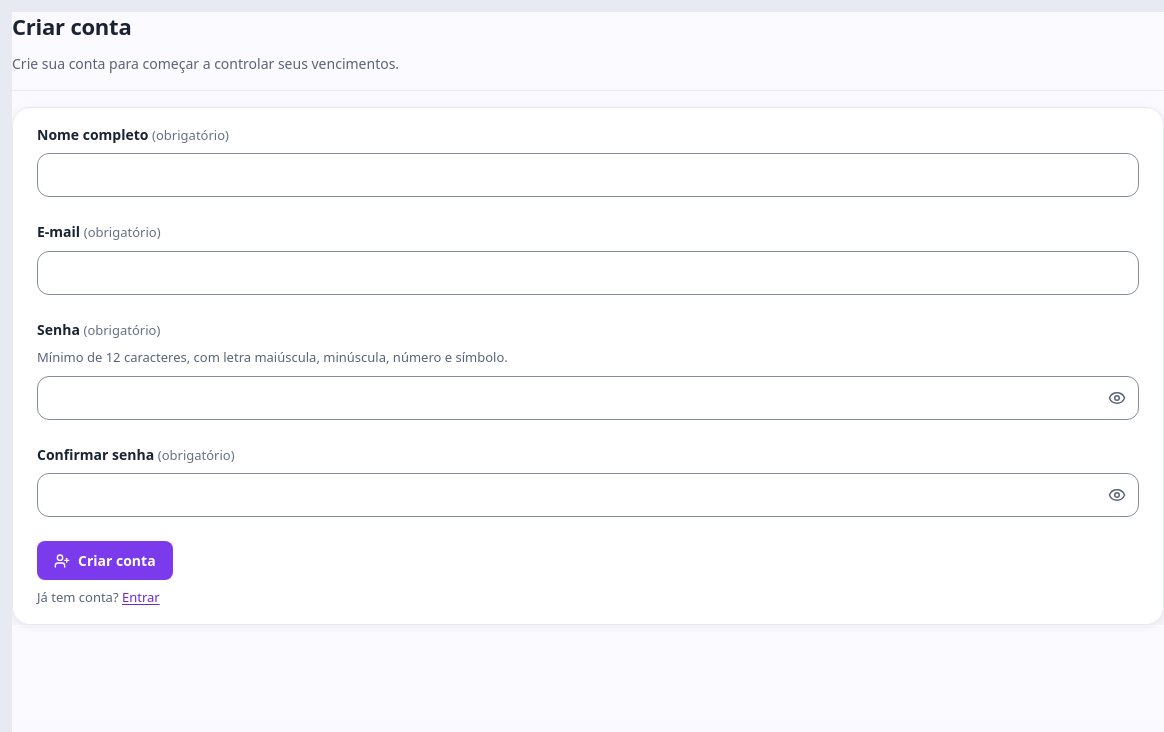
Test: SignUp › shows a specific message when the e-mail is already registered (CONFLICT)
The image size is (1164, 732).
Type "Ana Exemplo" into the field labelled "Nome completo (obrigatório)". click: coordinates (588, 175)
box: [37,153,1139,197]
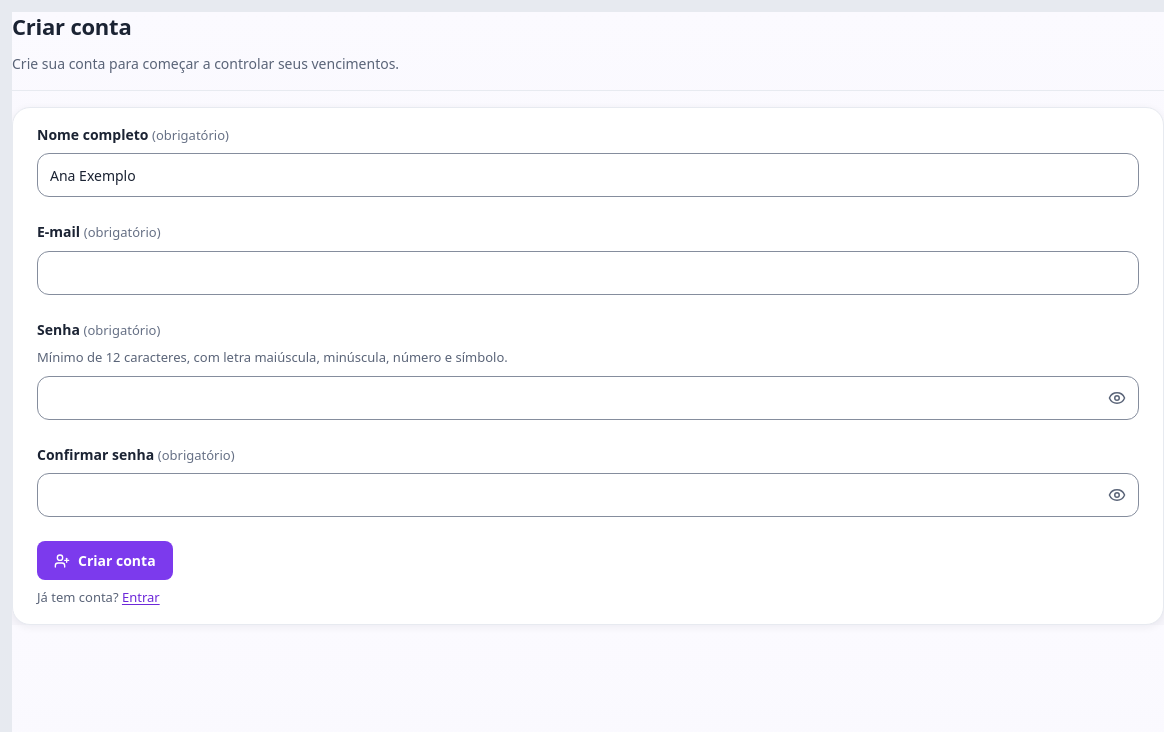
Type "taken@example.com" into the field labelled "E-mail (obrigatório)". click: coordinates (588, 273)
box: [37,251,1139,295]
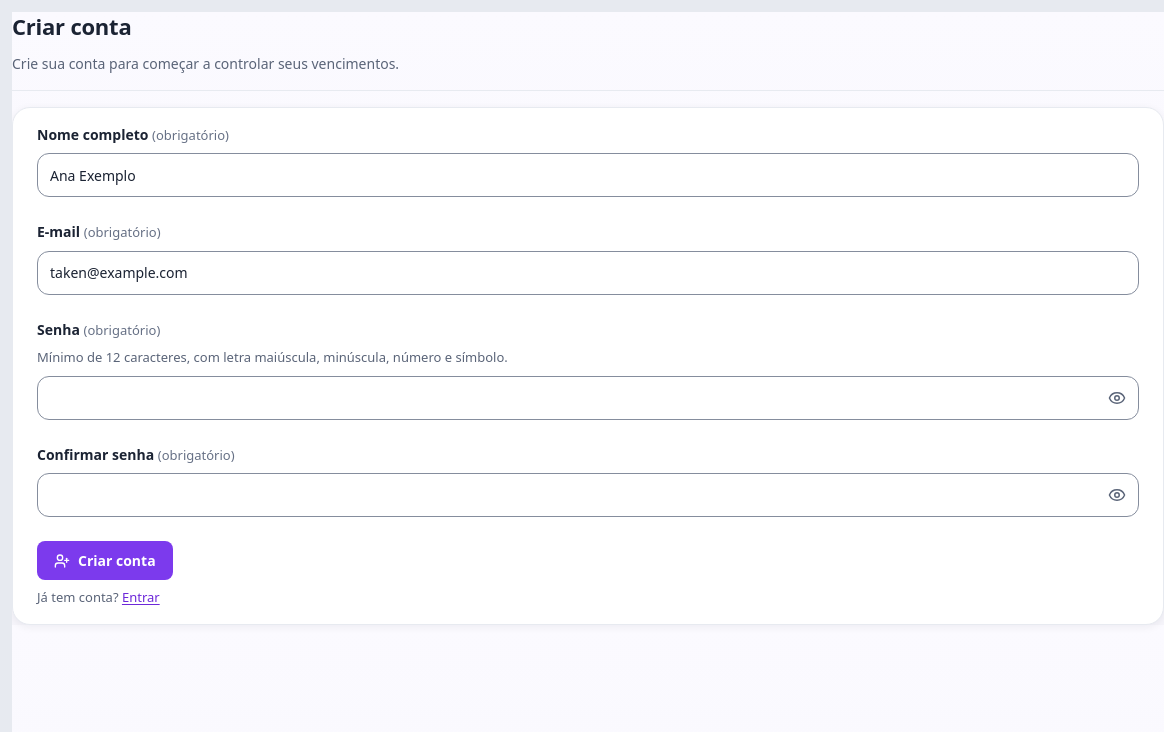
Type "Correct-Horse-1" into the password field labelled "Senha (obrigatório)". click: coordinates (588, 398)
box: [37,376,1139,420]
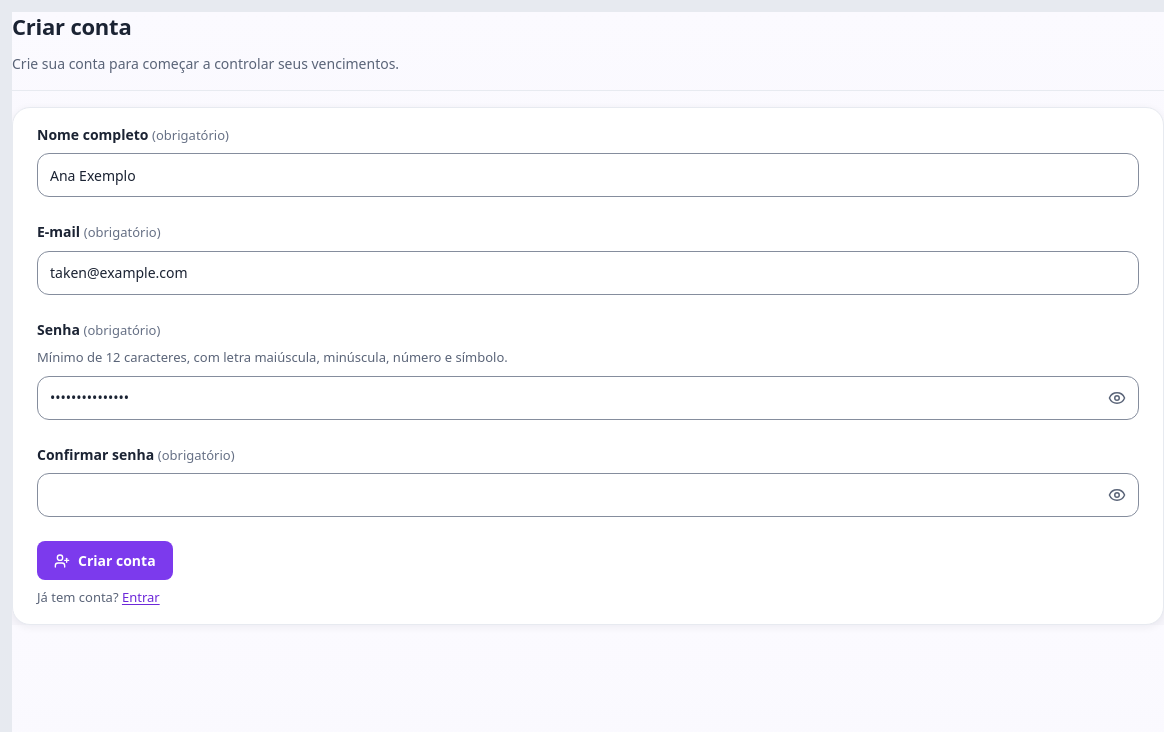
Type "Correct-Horse-1" into the password field labelled "Confirmar senha (obrigatório)". click: coordinates (588, 495)
box: [37,473,1139,517]
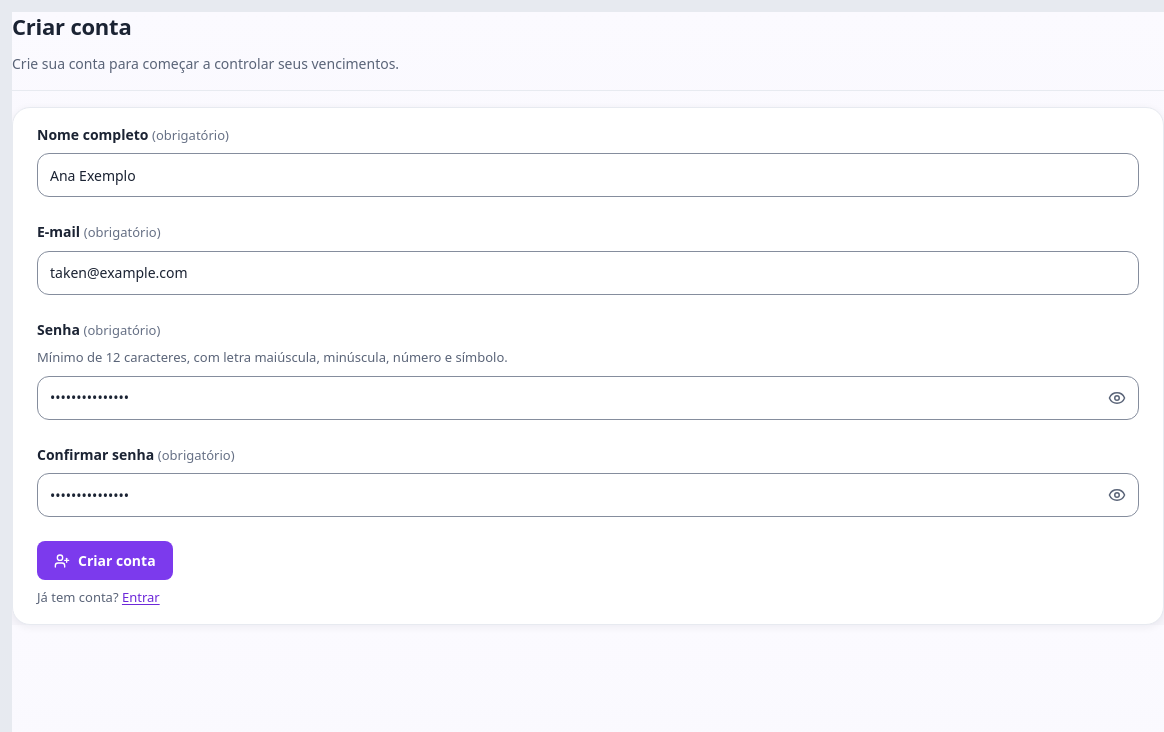
Click the button "Criar conta". click: coordinates (105, 561)
box: [37,541,173,580]
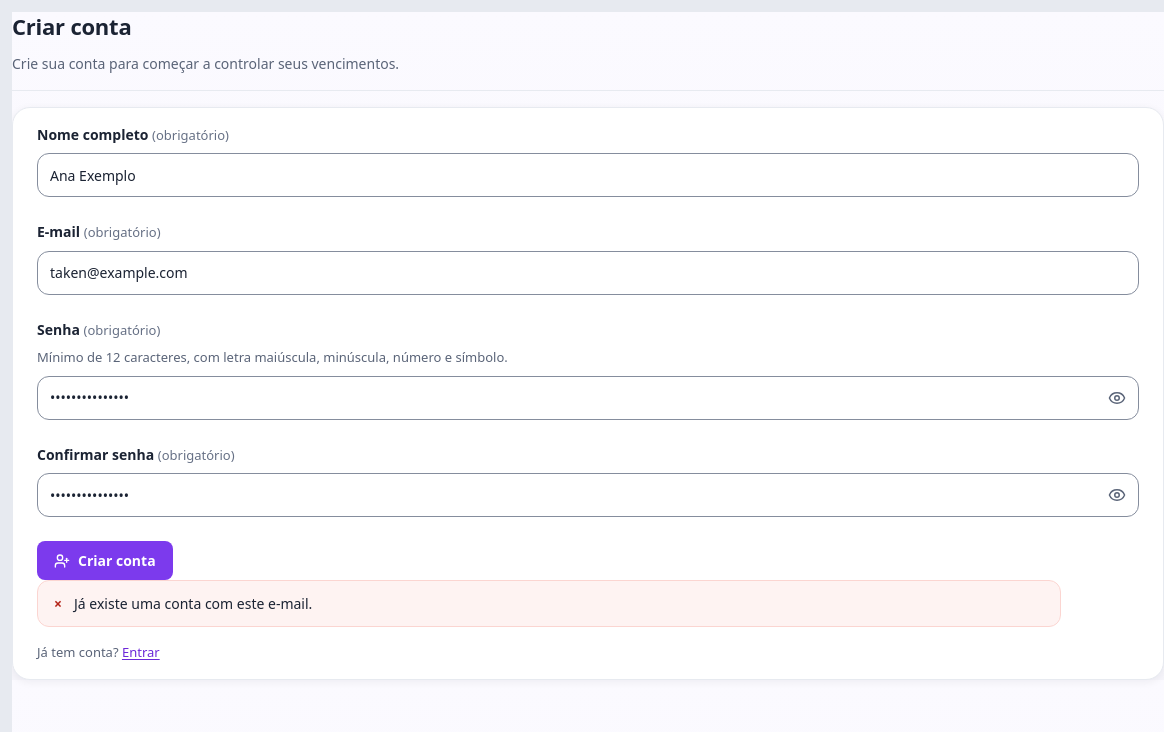
Now the text "Já existe uma conta com este e-mail." is shown, box [74,593,312,614]
